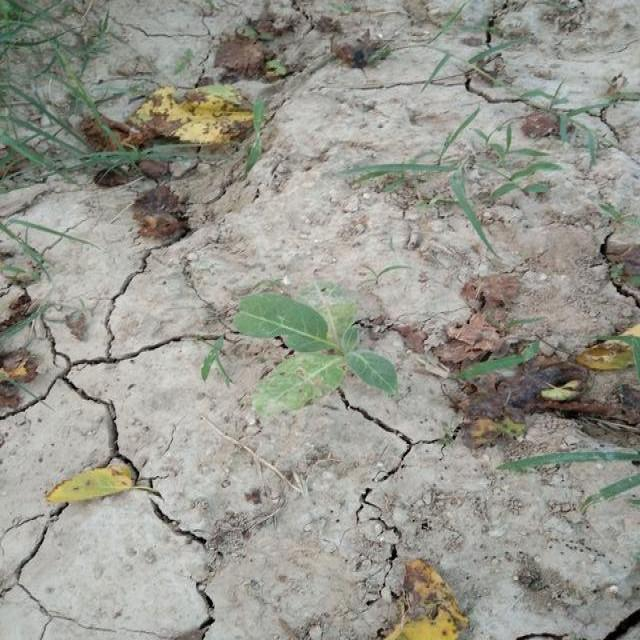crop: (230, 291, 407, 400)
